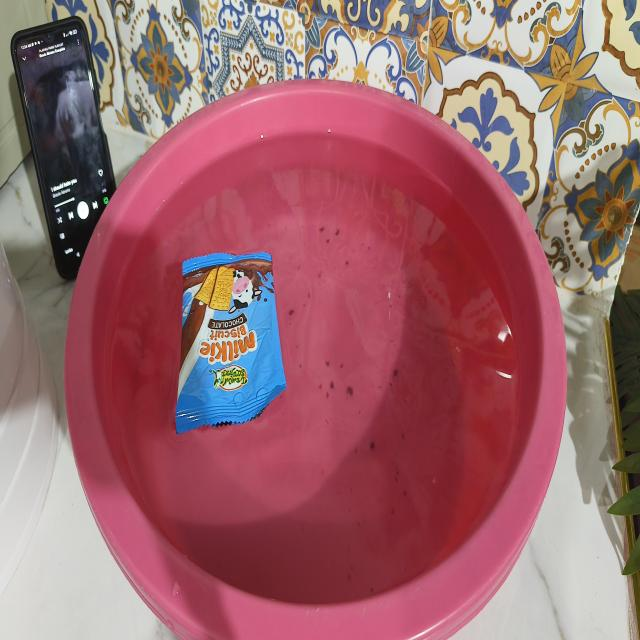Plastic Wrapper: (175, 253, 286, 433), (236, 314, 240, 319)
